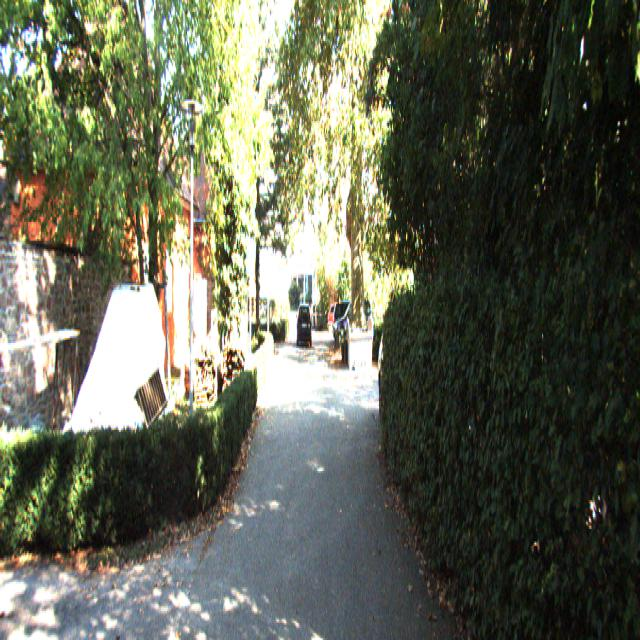Car: (334, 297, 375, 345), (297, 302, 312, 347)
